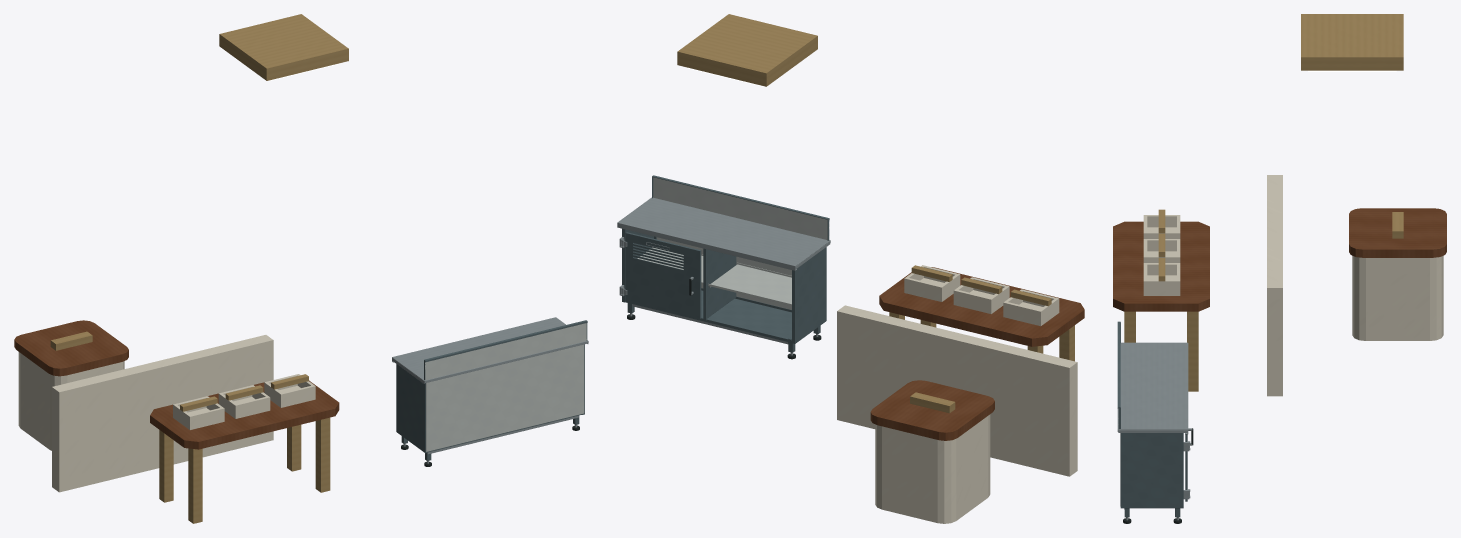
File: D04_PORT_FORWARD_HORTICULTURAL_WORKBAY_r001.glb
The picture shows the model from 3 angles, left to right: view 1: azimuth 30°, elevation 25°; view 2: azimuth 150°, elevation 25°; view 3: azimuth 270°, elevation 25°; orthographic projection. The views are drawn at different scales.
Visible parts, largest first — view 1: D04HS_WorkReturnScreen, D04HS_HorticulturalToolsCabinet__BODY_washable_rear_panel, D04HS_LampHousing, D04HS_TrayWorktop, D04HS_CuttingsLid, D04HS_ClosedCuttings, D04HS_HorticulturalToolsCabinet__BACKBOARD_washable_splash_s, D04HS_HorticulturalToolsCabinet__COUNTER_continuous_rolled_n, D04HS_HorticulturalToolsCabinet__BODY_R_formed_side_channel, D04HS_WorkbenchLeg_3, D04HS_WorkbenchLeg_2, D04HS_WorkbenchLeg_0 (+1 smaller); view 2: D04HS_WorkReturnScreen, D04HS_ClosedCuttings, D04HS_HorticulturalToolsCabinet__COUNTER_continuous_rolled_n, D04HS_LampHousing, D04HS_TrayWorktop, D04HS_HorticulturalToolsCabinet__DOOR_perforated_folded_leaf, D04HS_CuttingsLid, D04HS_HorticulturalToolsCabinet__BACKBOARD_washable_splash_s, D04HS_HorticulturalToolsCabinet__BASE_continuous_folded_catc, D04HS_HorticulturalToolsCabinet__BODY_R_formed_side_channel, D04HS_HorticulturalToolsCabinet__SHELF_open_folded_mid_deck, D04HS_HorticulturalToolsCabinet__BODY_central_divider (+2 smaller); view 3: D04HS_ClosedCuttings, D04HS_HorticulturalToolsCabinet__COUNTER_continuous_rolled_n, D04HS_TrayWorktop, D04HS_LampHousing, D04HS_HorticulturalToolsCabinet__BODY_L_formed_side_channel, D04HS_CuttingsLid, D04HS_WorkReturnScreen, D04HS_WorkbenchLeg_1, D04HS_CleanTrayRim_2_1.
Part boxes in pixels (<box>): D04HS_WorkReturnScreen: <box>52,335,273,492</box>; D04HS_HorticulturalToolsCabinet__BODY_washable_rear_panel: <box>426,344,584,451</box>; D04HS_LampHousing: <box>219,14,348,80</box>; D04HS_TrayWorktop: <box>150,380,339,449</box>; D04HS_CuttingsLid: <box>14,320,128,376</box>; D04HS_ClosedCuttings: <box>18,352,124,450</box>; D04HS_HorticulturalToolsCabinet__BACKBOARD_washable_splash_s: <box>425,323,586,380</box>; D04HS_HorticulturalToolsCabinet__COUNTER_continuous_rolled_n: <box>392,317,588,383</box>; D04HS_HorticulturalToolsCabinet__BODY_R_formed_side_channel: <box>396,364,428,453</box>; D04HS_WorkbenchLeg_3: <box>315,417,330,492</box>; D04HS_WorkbenchLeg_2: <box>188,448,202,523</box>; D04HS_WorkbenchLeg_0: <box>159,430,173,502</box>; D04HS_WorkReturnScreen: <box>837,305,1077,476</box>; D04HS_ClosedCuttings: <box>875,414,990,523</box>; D04HS_HorticulturalToolsCabinet__COUNTER_continuous_rolled_n: <box>617,197,830,270</box>; D04HS_LampHousing: <box>677,14,817,86</box>; D04HS_TrayWorktop: <box>879,267,1084,346</box>; D04HS_HorticulturalToolsCabinet__DOOR_perforated_folded_leaf: <box>625,233,700,318</box>; D04HS_CuttingsLid: <box>870,380,994,440</box>; D04HS_HorticulturalToolsCabinet__BACKBOARD_washable_splash_s: <box>653,177,829,239</box>; D04HS_HorticulturalToolsCabinet__BASE_continuous_folded_catc: <box>625,288,791,342</box>; D04HS_HorticulturalToolsCabinet__BODY_R_formed_side_channel: <box>792,247,826,343</box>; D04HS_HorticulturalToolsCabinet__SHELF_open_folded_mid_deck: <box>708,262,791,306</box>; D04HS_HorticulturalToolsCabinet__BODY_central_divider: <box>707,249,736,318</box>; D04HS_ClosedCuttings: <box>1352,255,1443,340</box>; D04HS_HorticulturalToolsCabinet__COUNTER_continuous_rolled_n: <box>1117,342,1188,434</box>; D04HS_TrayWorktop: <box>1113,221,1209,311</box>; D04HS_LampHousing: <box>1301,14,1403,70</box>; D04HS_HorticulturalToolsCabinet__BODY_L_formed_side_channel: <box>1120,433,1183,508</box>; D04HS_CuttingsLid: <box>1349,208,1446,257</box>; D04HS_WorkReturnScreen: <box>1267,175,1282,396</box>; D04HS_WorkbenchLeg_1: <box>1187,311,1198,391</box>; D04HS_CleanTrayRim_2_1: <box>1143,280,1180,292</box>.
Size of the model in its own units: 5.05 by 3.75 by 2.93.
8 materials, 7 textured.
